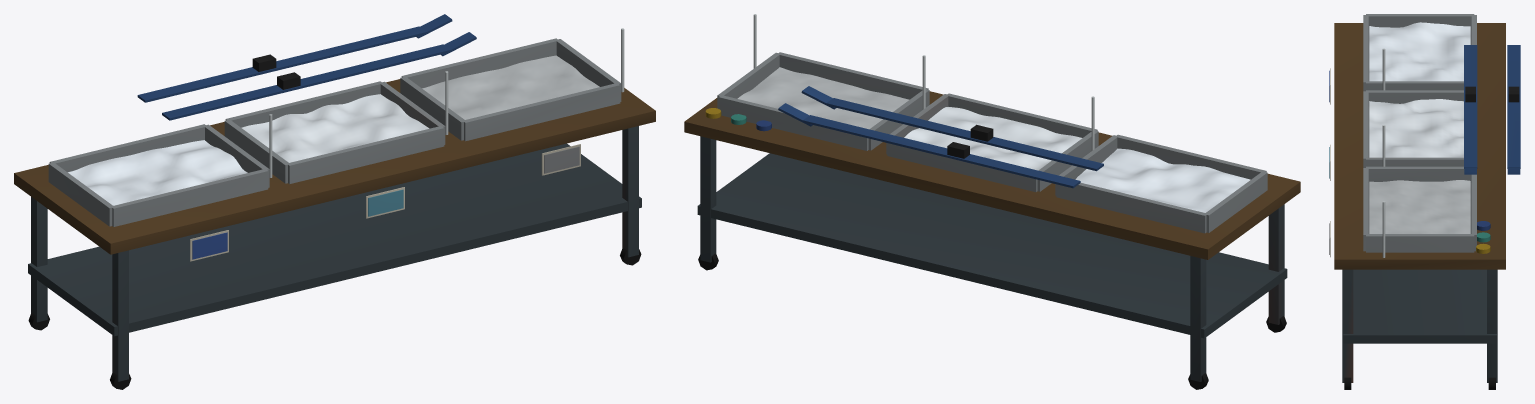
File: snow-trays.glb
The picture shows the model from 3 angles, left to right: view 1: azimuth 30°, elevation 25°; view 2: azimuth 150°, elevation 25°; view 3: azimuth 270°, elevation 25°; orthographic projection. The views are drawn at different scales.
Parts seen in each view (by area): view 1: table, tray-minus15, tray-zero, tray-minus5, skis; view 2: table, tray-minus15, tray-zero, tray-minus5, skis; view 3: table, tray-zero, tray-minus15, tray-minus5, skis.
Boxes of the visible parts, x1,y1,x2,y2 form: table: (14, 79, 655, 389); tray-minus15: (48, 114, 272, 261); tray-zero: (400, 28, 624, 175); tray-minus5: (224, 71, 448, 218); skis: (137, 14, 476, 120); table: (684, 91, 1300, 389); tray-minus15: (1055, 96, 1267, 233); tray-zero: (717, 14, 929, 150); tray-minus5: (886, 55, 1098, 192); skis: (778, 86, 1103, 188); table: (1334, 23, 1505, 389); tray-zero: (1329, 166, 1476, 257); tray-minus15: (1329, 14, 1476, 104); tray-minus5: (1329, 90, 1463, 180); skis: (1464, 45, 1520, 174).
Size of the model in its own units: 3.1 by 1.18 by 1.06.
